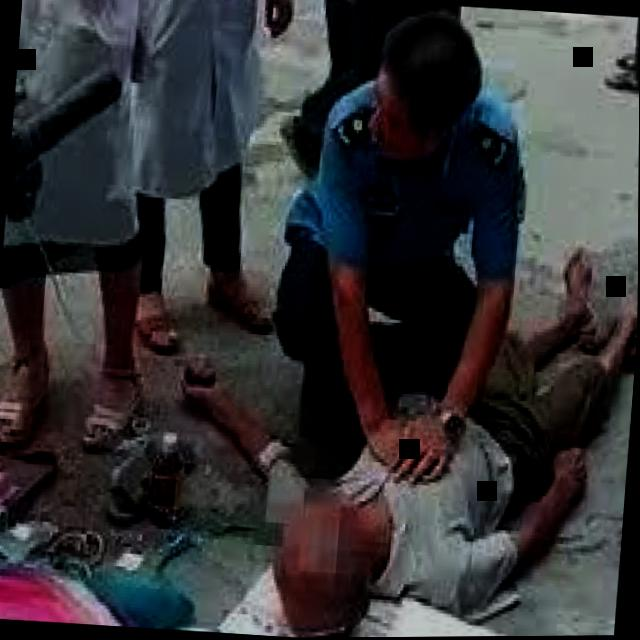Fall-Detected: (146, 199, 639, 639)
